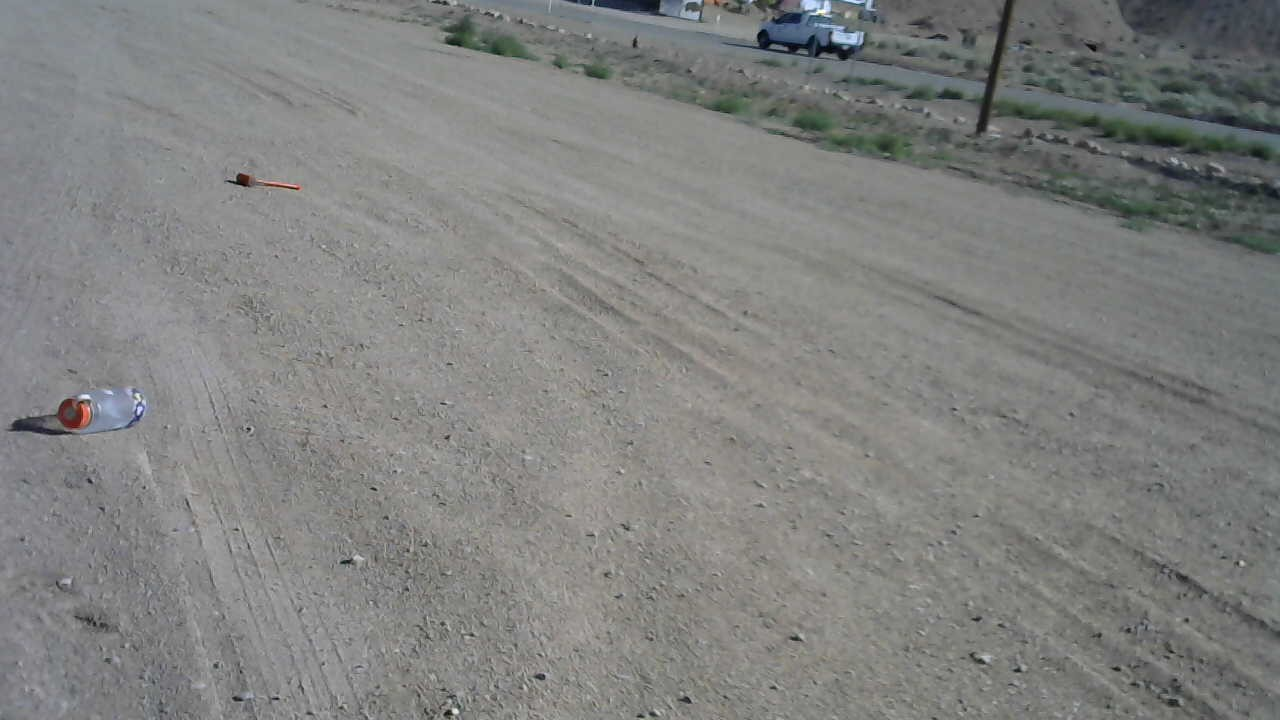bottle: (48, 377, 151, 434)
hammer: (228, 164, 303, 199)
